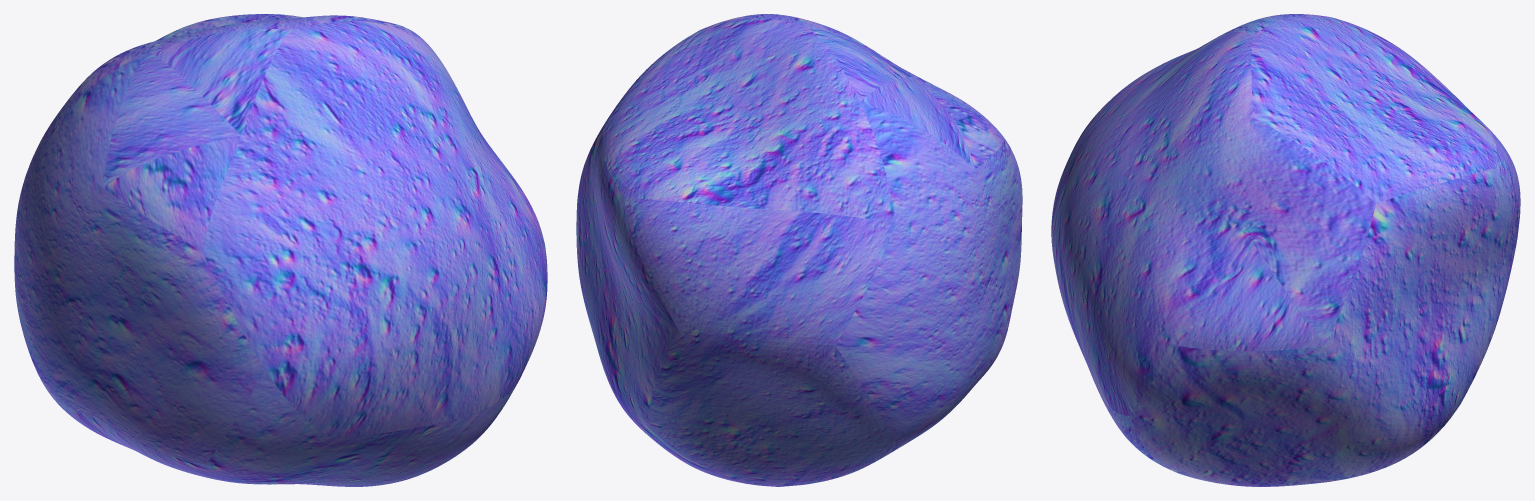
Rendered from mediumasteroid14_LOD0.fbx.
The picture shows the model from 3 angles, left to right: view 1: azimuth 30°, elevation 25°; view 2: azimuth 150°, elevation 25°; view 3: azimuth 270°, elevation 25°; orthographic projection. The views are drawn at different scales.
Parts seen in each view (by area): view 1: Icosphere; view 2: Icosphere; view 3: Icosphere.
Part boxes in pixels (x1,y1,x2,y2): Icosphere: (14, 14, 547, 486); Icosphere: (576, 14, 1022, 486); Icosphere: (1051, 14, 1520, 486).
Bounding box in the file's own units: 221 × 221 × 223.
